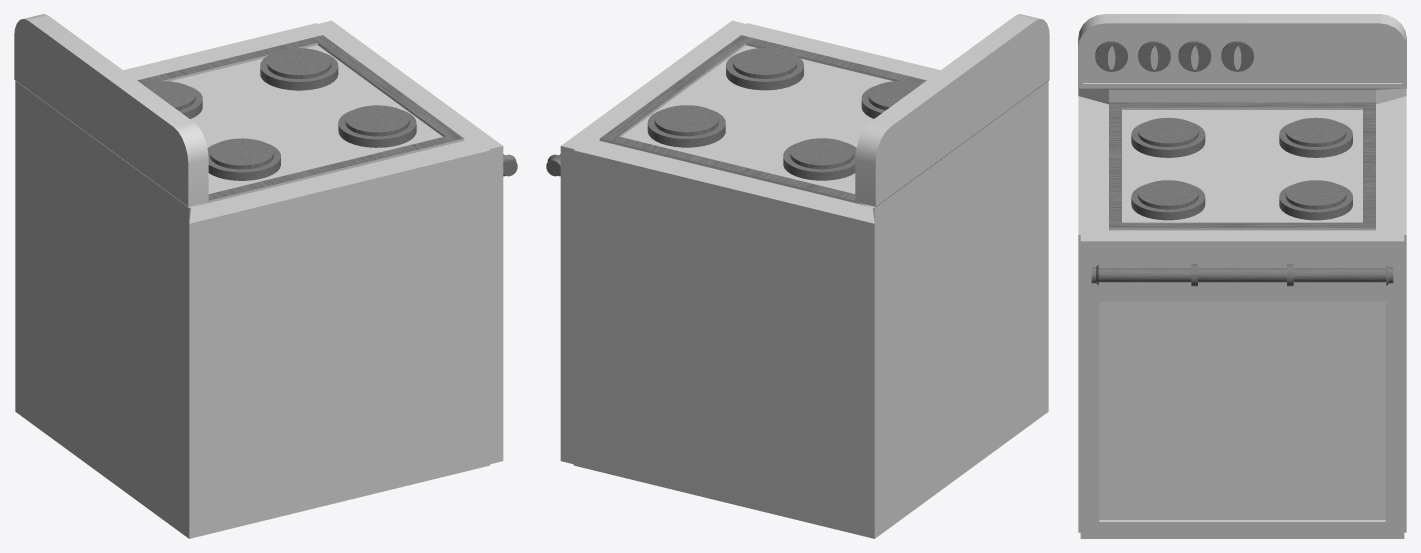
Rendered from Oven.fbx.
3 renders of one model, left to right at view 1: azimuth 30°, elevation 25°; view 2: azimuth 150°, elevation 25°; view 3: azimuth 270°, elevation 25°, orthographic. The views are drawn at different scales.
Parts seen in each view (by area): view 1: Oven; view 2: Oven; view 3: Oven.
Boxes of the visible parts, x1=… form: Oven: x1=14, y1=14, x2=517, y2=538; Oven: x1=546, y1=14, x2=1049, y2=538; Oven: x1=1078, y1=14, x2=1406, y2=538.
Size of the model in its own units: 338 by 382 by 300.
